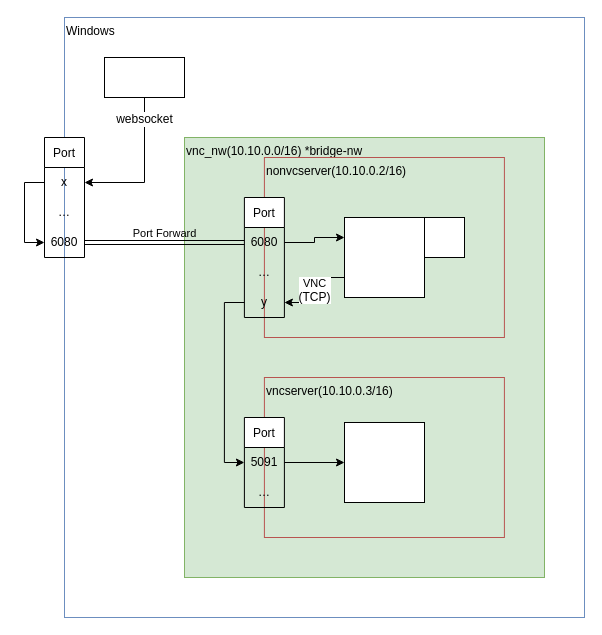
The diagram is 602 pixels wide and 635 high, and some of its shapes have lost their labels. Here are the shapes that lost their labels. From the top down, the centre of each, then its label:
(x=144, y=77): Browser
(x=384, y=257): Websockify
(x=444, y=237): nonvc
(x=384, y=462): VNC Server
